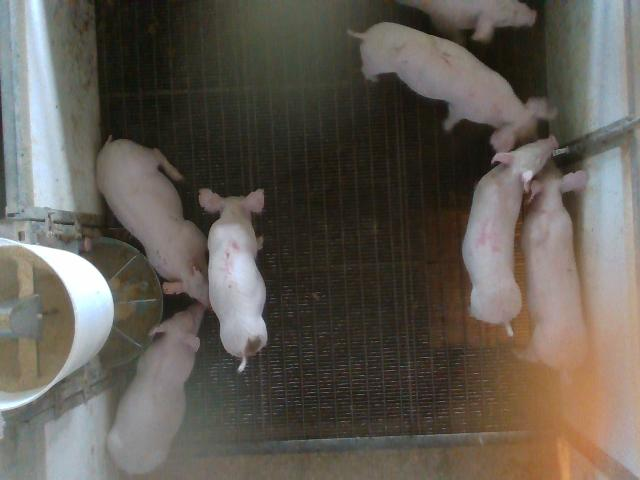pig-4: (462, 136, 558, 336)
pig-5: (200, 189, 268, 372)
